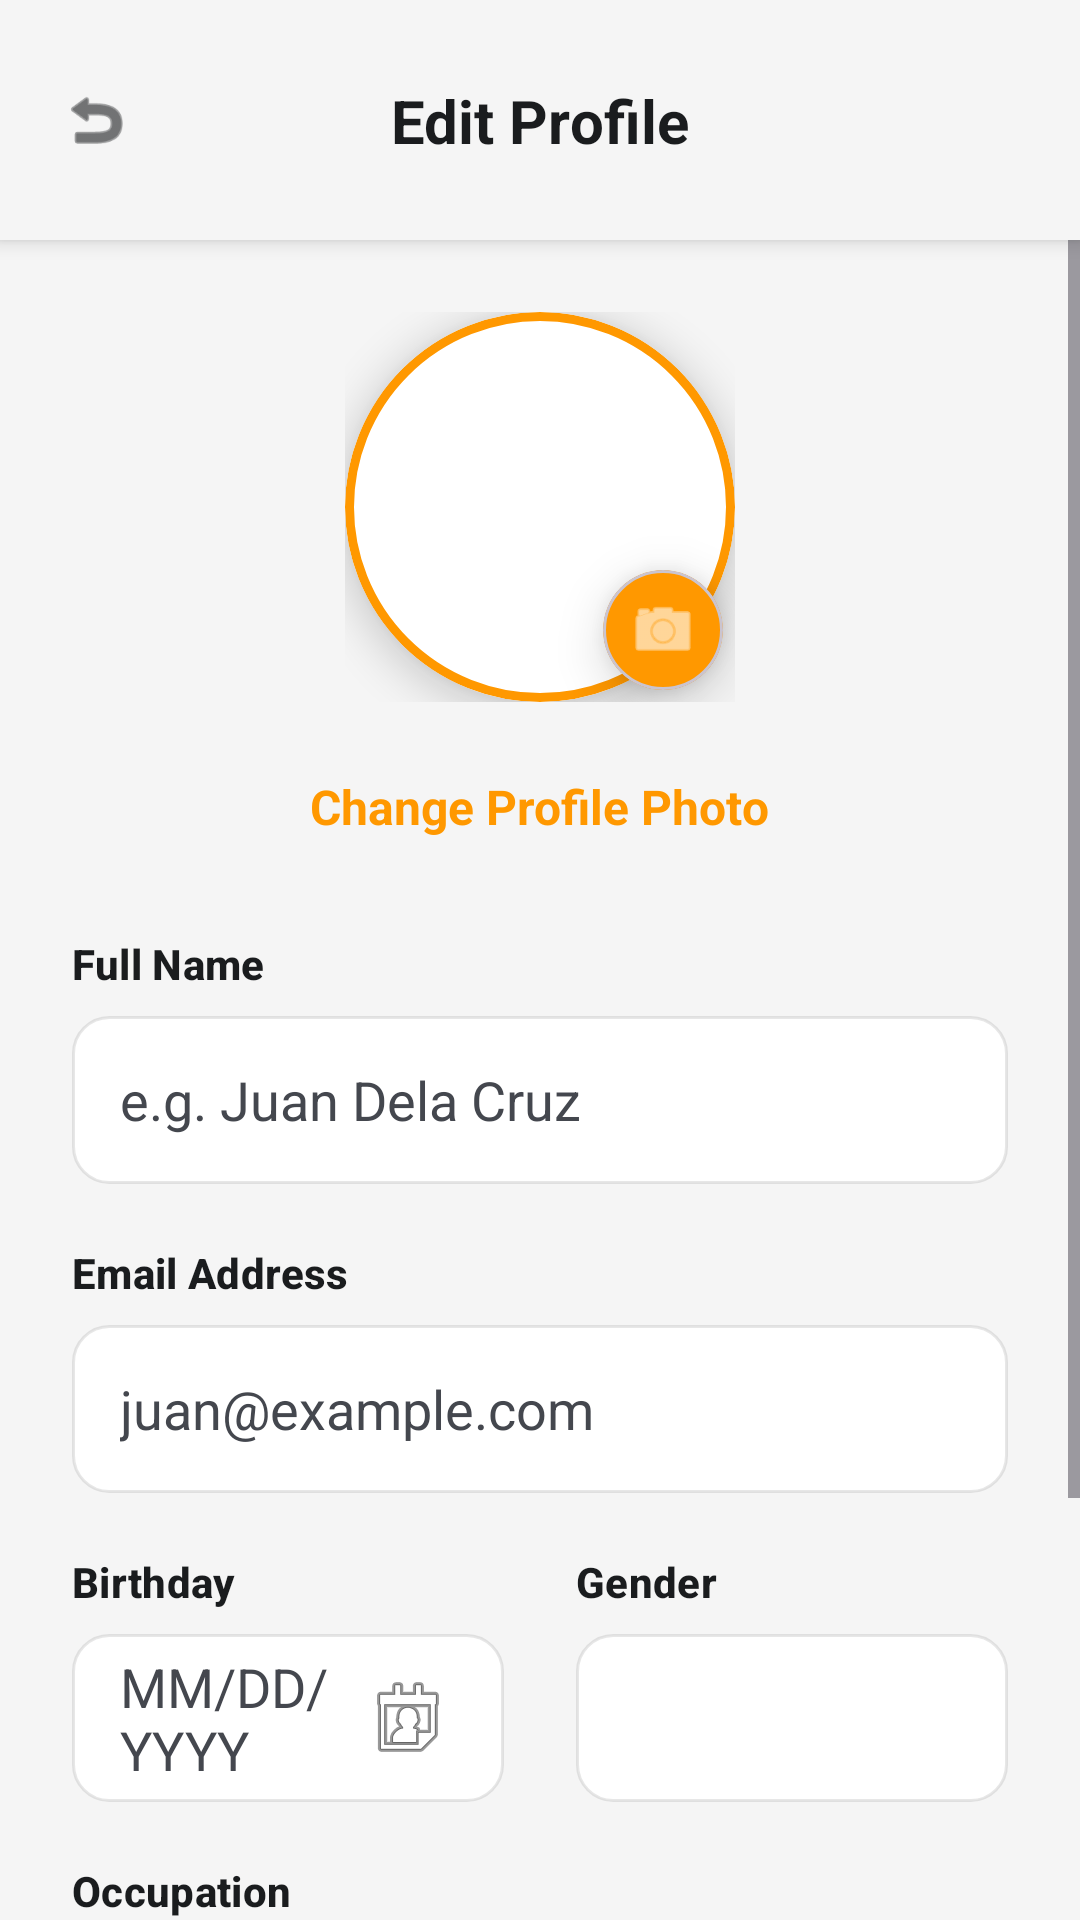

Icons on this 1080px x 1920px Android screen, each with its box as [left=x1, top=y1, right=x2, bottom=y2]:
Back: [left=71, top=97, right=123, bottom=144]
camera: [left=603, top=570, right=723, bottom=690]
